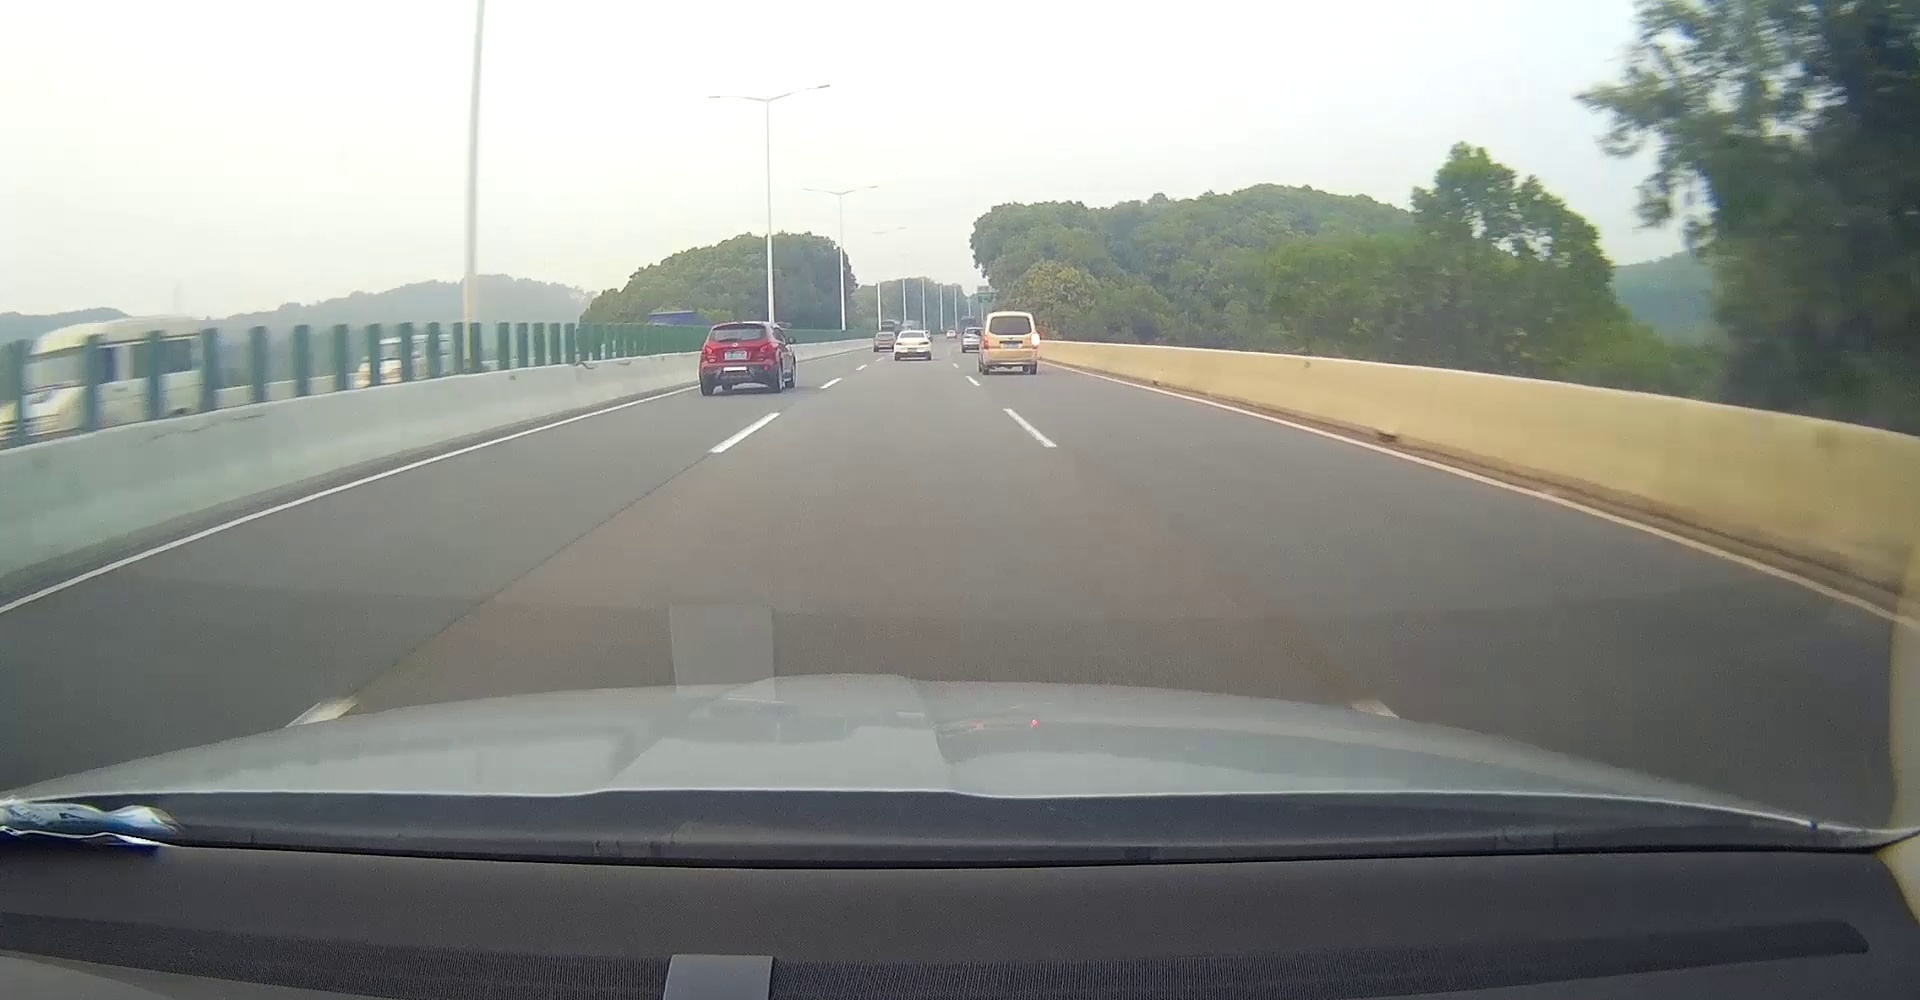L_light: (701, 344, 716, 357), (983, 334, 989, 349), (895, 341, 903, 345)
R_light: (759, 341, 778, 352), (1032, 334, 1037, 349), (918, 341, 930, 345)
T_light: (734, 324, 745, 327), (1006, 316, 1015, 319), (909, 332, 916, 334)
day-no: (698, 321, 780, 397), (893, 330, 932, 360)
day-right: (982, 311, 1040, 376)
